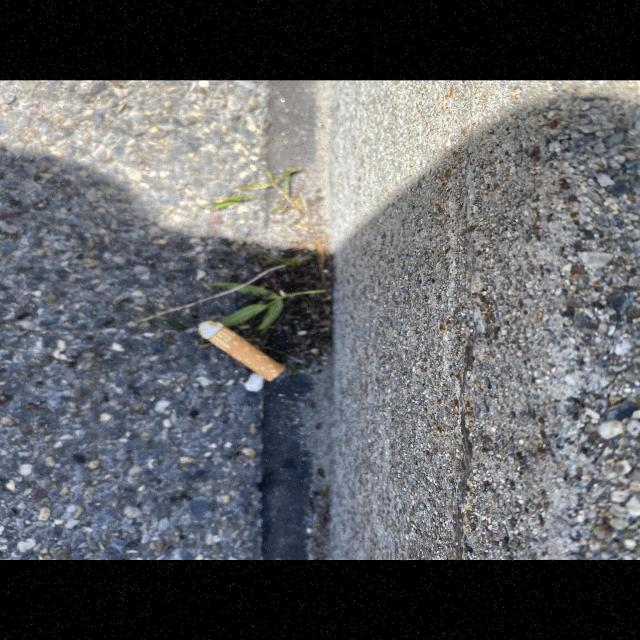other waste: (195, 319, 287, 382)
